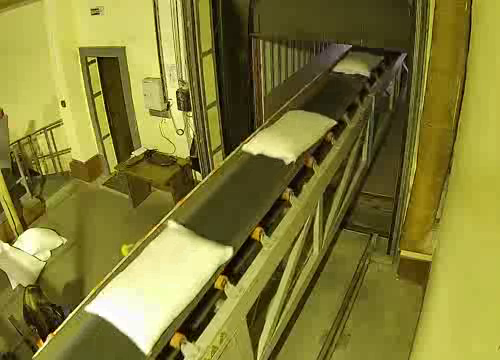bag: (80, 215, 244, 358), (239, 108, 342, 169), (328, 49, 388, 80)
